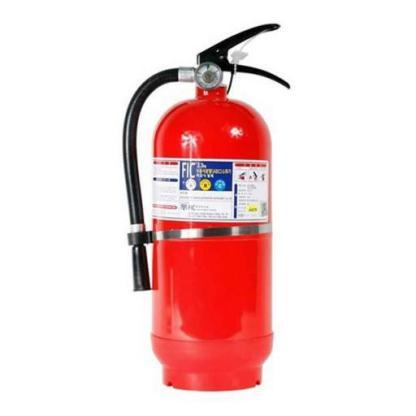Fire Extinguisher: (112, 14, 333, 394)
